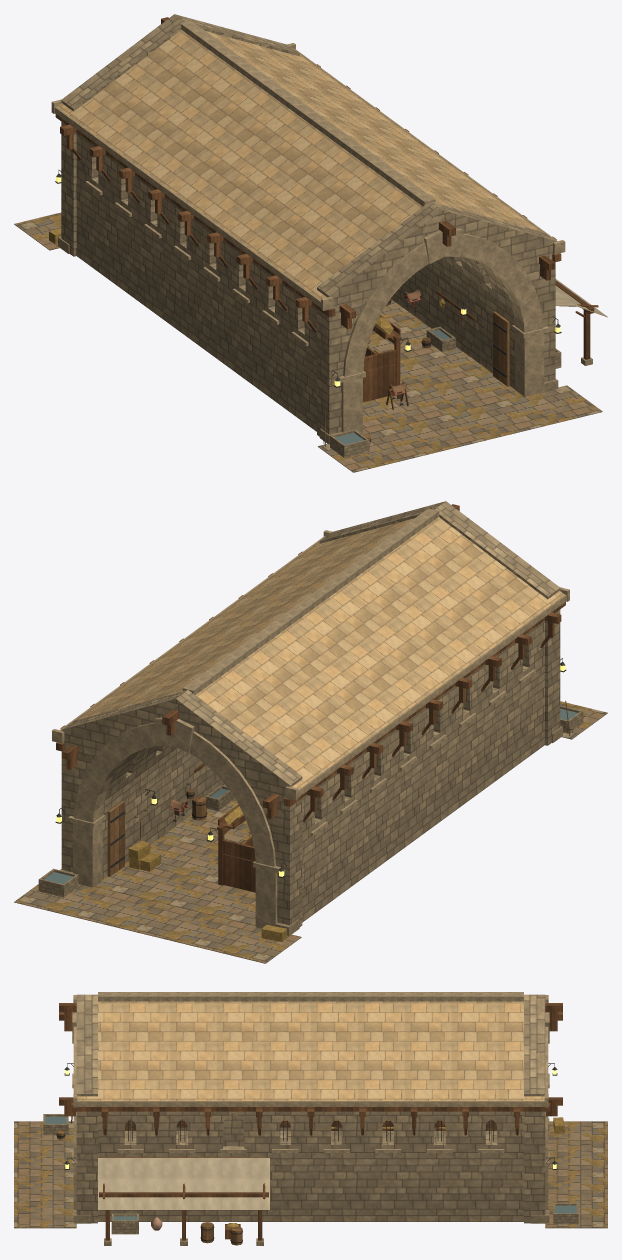
The model's file is stable-v6-lite.glb.
The picture shows the model from 3 angles, top to bottom: view 1: azimuth 30°, elevation 25°; view 2: azimuth 150°, elevation 25°; view 3: azimuth 270°, elevation 25°; orthographic projection. The views are drawn at different scales.
Parts seen in each view (by area): view 1: mesh_stone, mesh_roof, mesh_stone_block, mesh_floor, mesh_wood, mesh_wood_light; view 2: mesh_stone, mesh_roof, mesh_stone_block, mesh_floor, mesh_wood, mesh_wood_light, mesh_straw; view 3: mesh_stone, mesh_roof, mesh_floor, mesh_stone_block, mesh_canvas, mesh_wood, mesh_wood_light, mesh_iron, mesh_water.
Boxes of the visible parts, bbox=[...] form: mesh_stone: bbox=[61, 14, 561, 457]; mesh_roof: bbox=[57, 30, 541, 300]; mesh_stone_block: bbox=[51, 21, 592, 444]; mesh_floor: bbox=[14, 212, 602, 472]; mesh_wood: bbox=[55, 17, 598, 409]; mesh_wood_light: bbox=[324, 298, 509, 446]; mesh_stone: bbox=[38, 501, 583, 926]; mesh_roof: bbox=[75, 517, 564, 789]; mesh_stone_block: bbox=[52, 508, 569, 935]; mesh_floor: bbox=[14, 701, 607, 963]; mesh_wood: bbox=[56, 504, 565, 892]; mesh_wood_light: bbox=[107, 700, 570, 876]; mesh_straw: bbox=[128, 806, 286, 941]; mesh_stone: bbox=[43, 994, 578, 1234]; mesh_roof: bbox=[77, 1001, 544, 1100]; mesh_floor: bbox=[14, 1121, 607, 1228]; mesh_stone_block: bbox=[72, 992, 549, 1245]; mesh_canvas: bbox=[98, 1158, 269, 1210]; mesh_wood: bbox=[59, 1003, 562, 1240]; mesh_wood_light: bbox=[57, 1116, 496, 1245]; mesh_iron: bbox=[56, 1063, 557, 1243]; mesh_water: bbox=[45, 1116, 576, 1220].
Size of what is drawn, in the model's own units: 15.85 by 10.23 by 30.4.
Materials: 17 (12 with a texture image).
